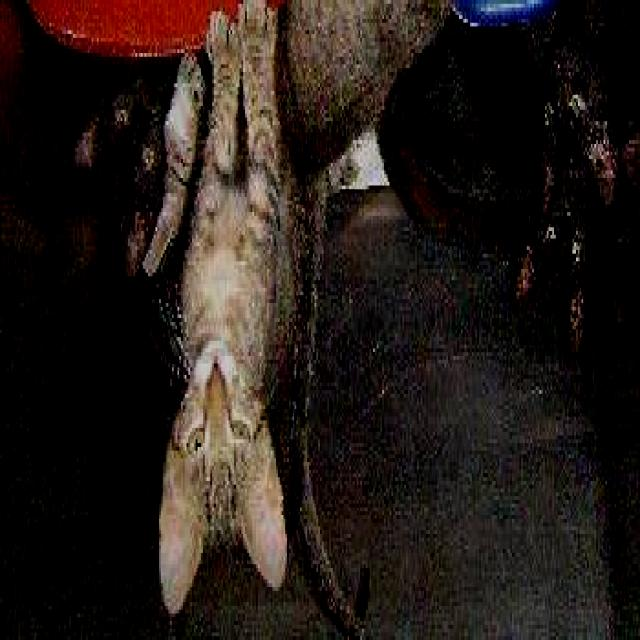Kucing: (142, 291, 356, 636), (389, 13, 640, 187), (25, 41, 177, 278), (465, 216, 613, 395)
